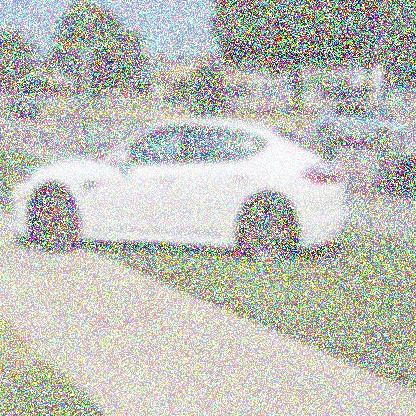Vehicle: (11, 119, 347, 260)
